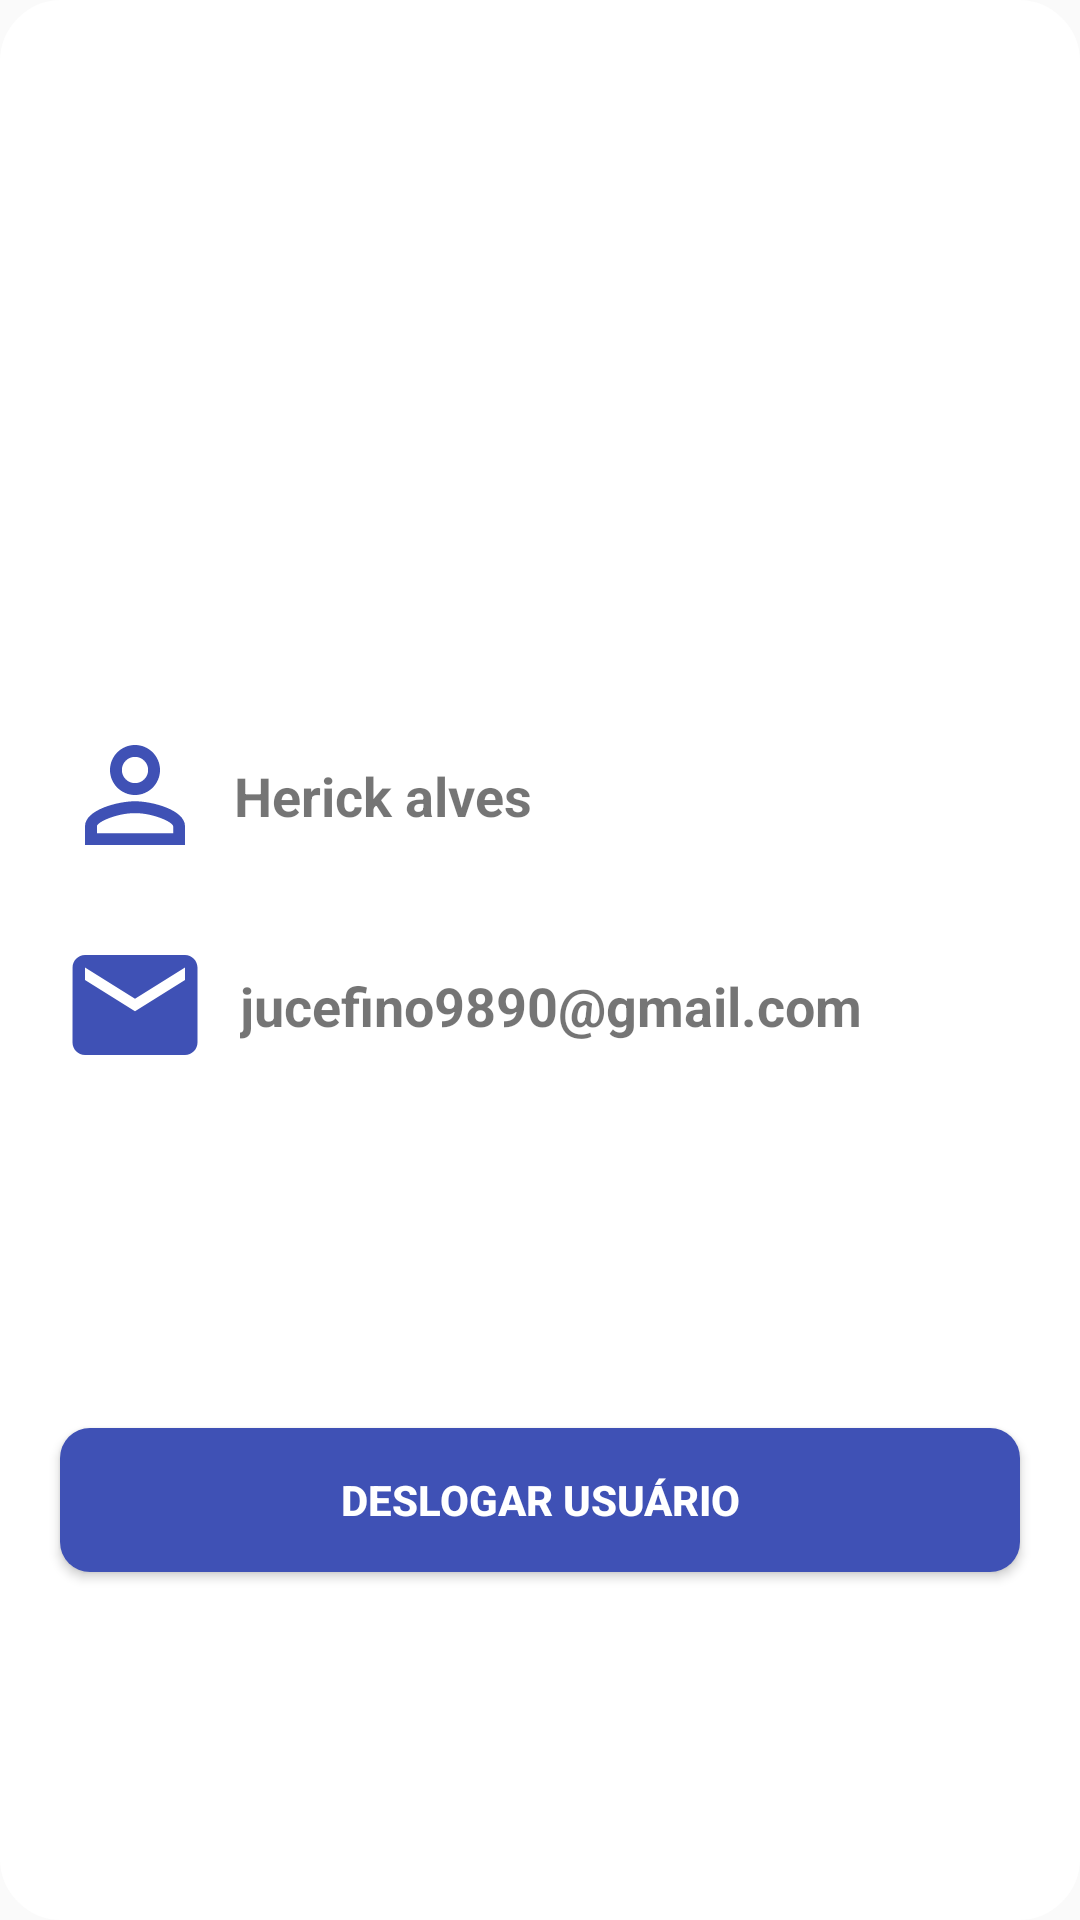

Icon bounding boxes for this 1080 x 1920 phone screenshot, format [x1,y1,x2,y2]:
email: [72,955,198,1055]
usuario: [85,745,185,845]
